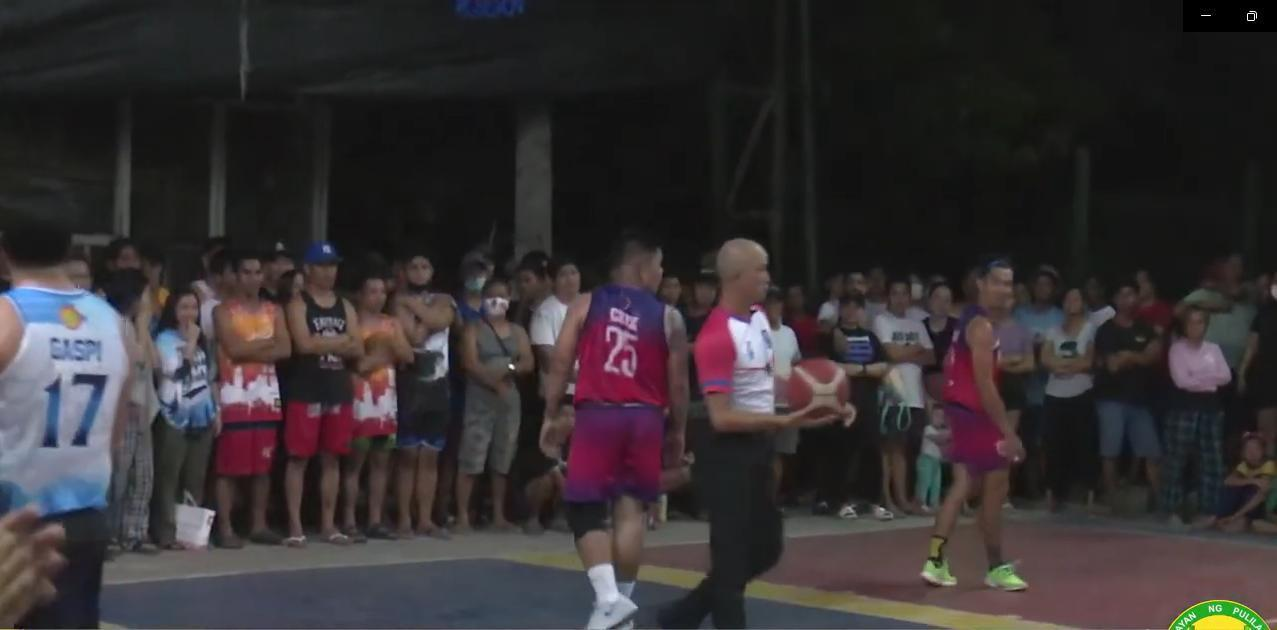ball: (780, 350, 855, 430)
human: (517, 220, 675, 630), (667, 230, 825, 630), (0, 148, 131, 630), (898, 243, 1056, 606)
